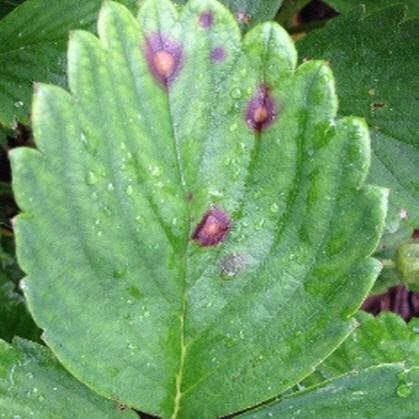Leaf Spot: (6, 0, 391, 418)
